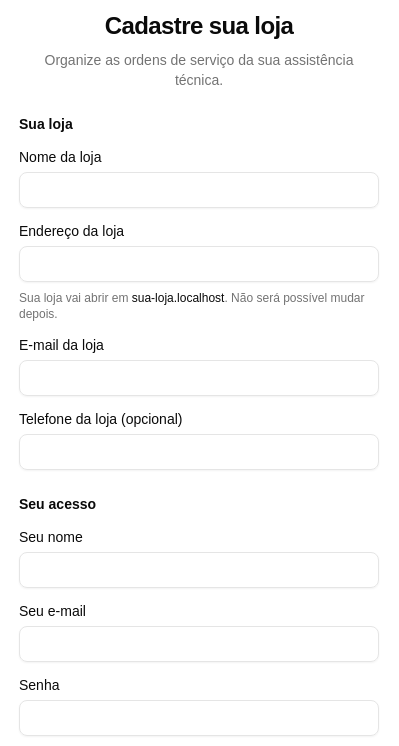
Scenario: Sign Up › should suggest the address from the store name
Type "Assistência Técnica São João" into the field labelled "Nome da loja" at (199, 190), box [19,172,379,208]
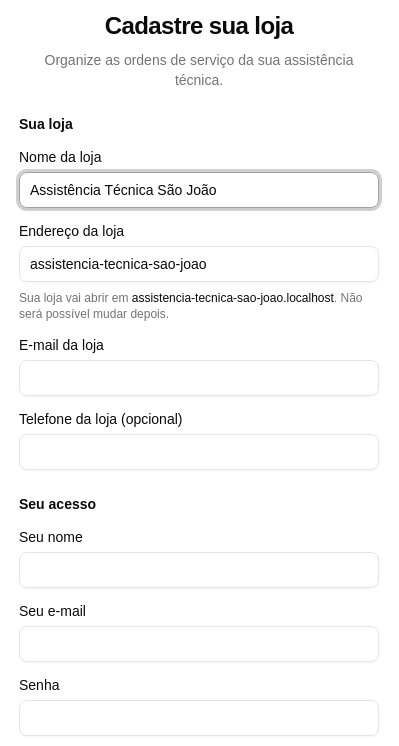
Expected: the field labelled "Endereço da loja" holds "assistencia-tecnica-sao-joao", [19,246,379,282]
